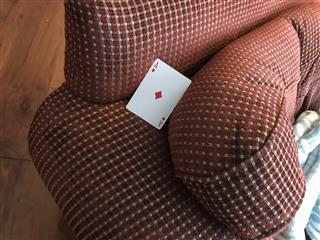AceOfDiamonds: (125, 57, 192, 130)
